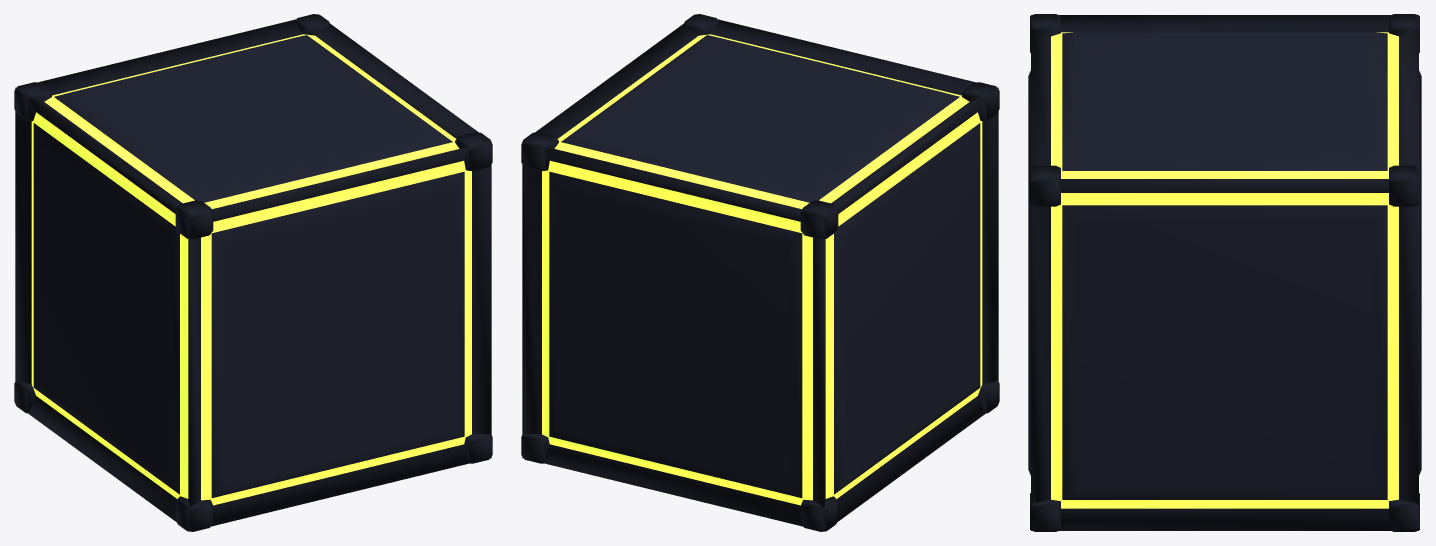
The model's file is escudo_bloque_sano.glb.
The picture shows the model from 3 angles, left to right: view 1: azimuth 30°, elevation 25°; view 2: azimuth 150°, elevation 25°; view 3: azimuth 270°, elevation 25°; orthographic projection. The views are drawn at different scales.
Parts seen in each view (by area): view 1: escudo_bloque_sano; view 2: escudo_bloque_sano; view 3: escudo_bloque_sano.
Boxes of the visible parts, box(x1,y1,x2,y2) form: escudo_bloque_sano: box(14, 14, 492, 531); escudo_bloque_sano: box(521, 14, 999, 531); escudo_bloque_sano: box(1028, 14, 1421, 531).
Size of the model in its own units: 0.486 by 0.486 by 0.486.
